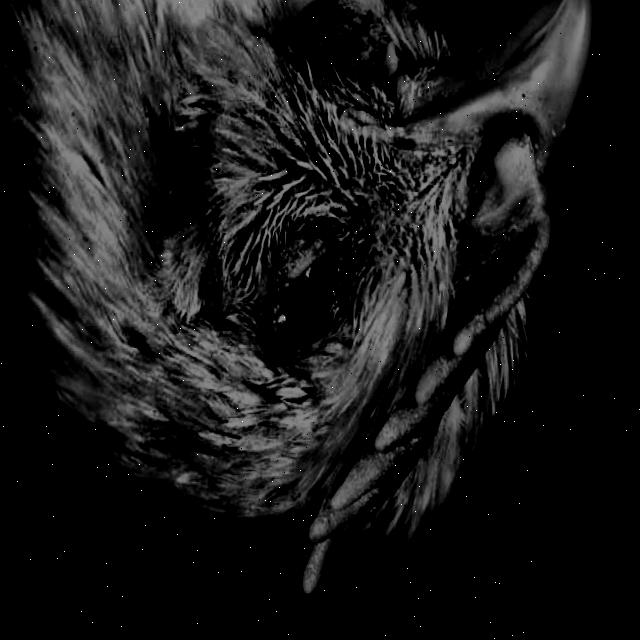Newcastle: (0, 0, 610, 609)
